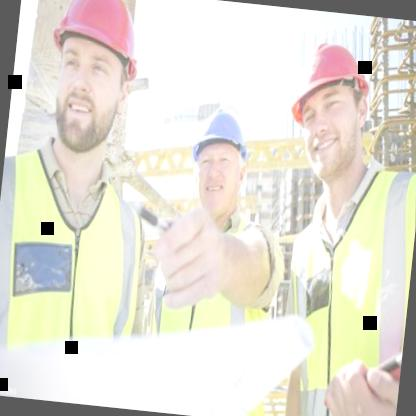helmet: (28, 0, 155, 163), (273, 26, 388, 190), (178, 88, 261, 226)
